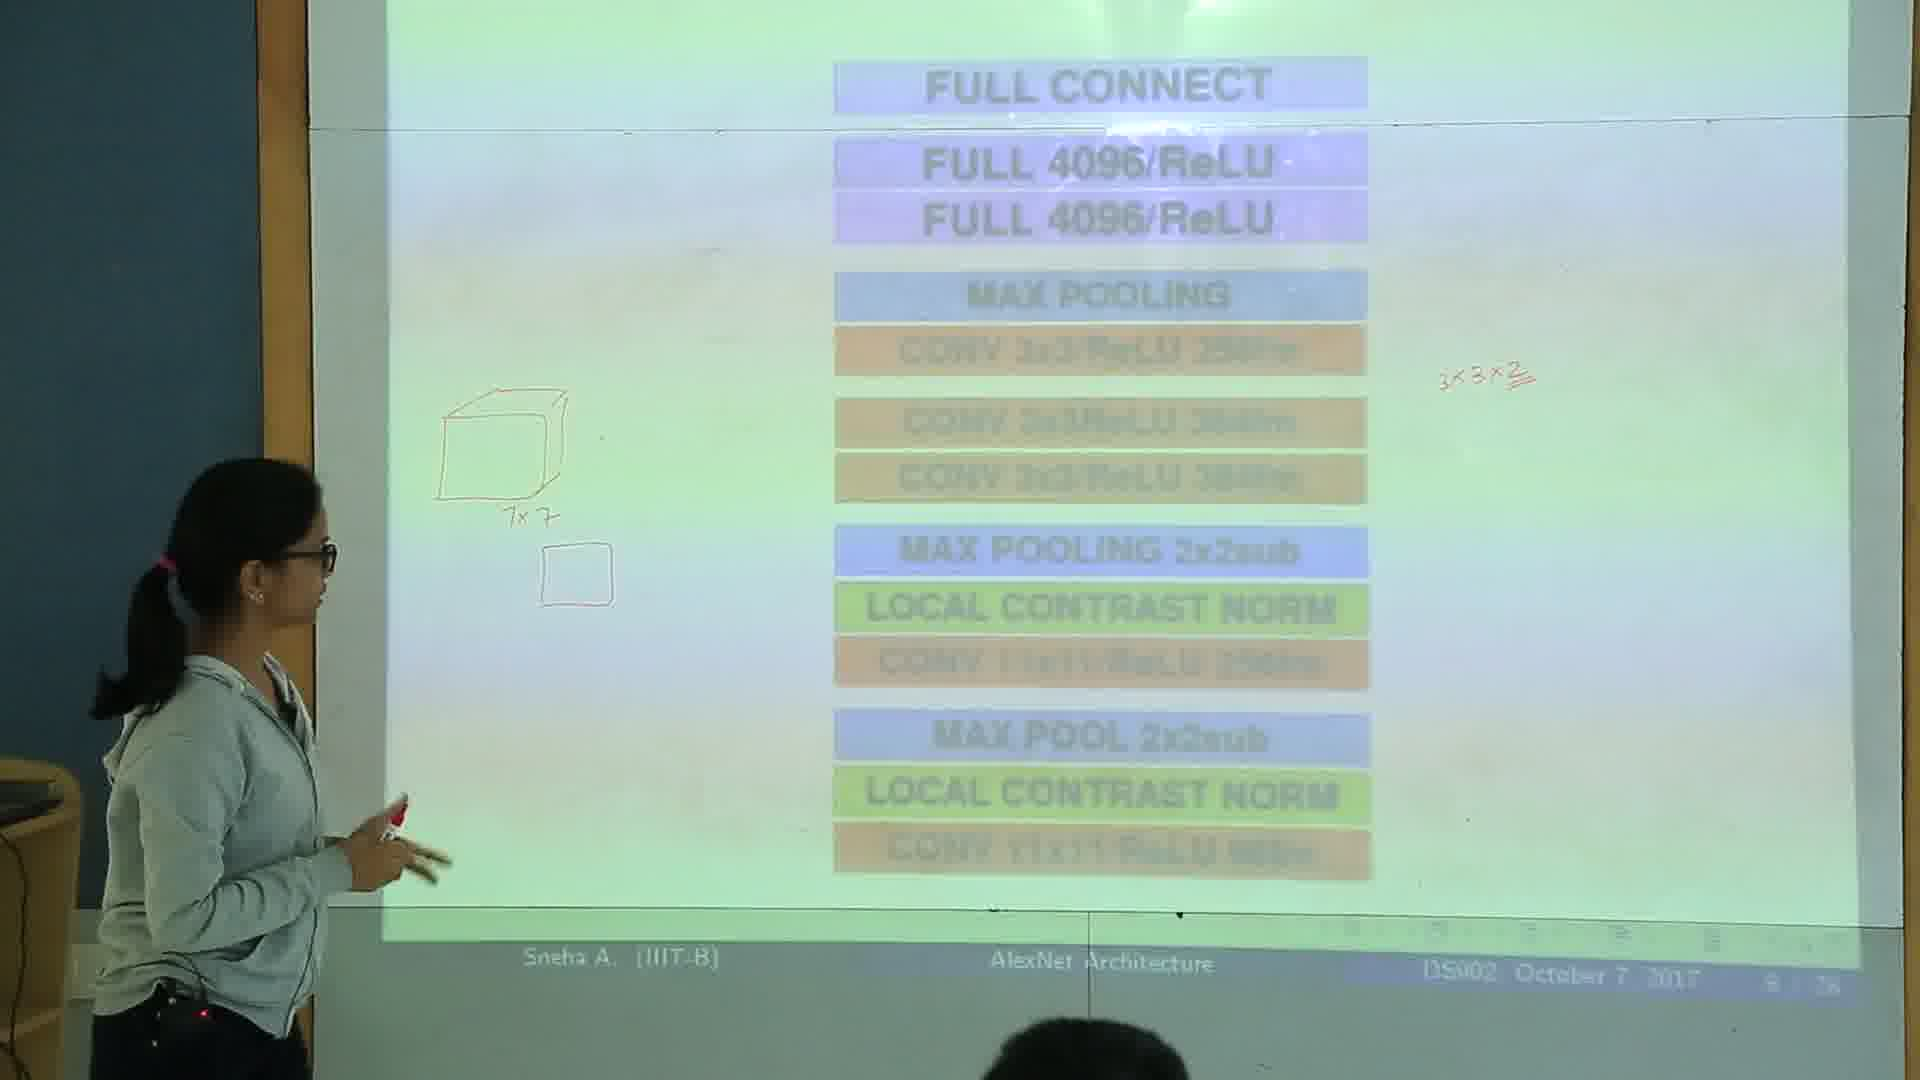slide: (386, 3, 1858, 1005)
